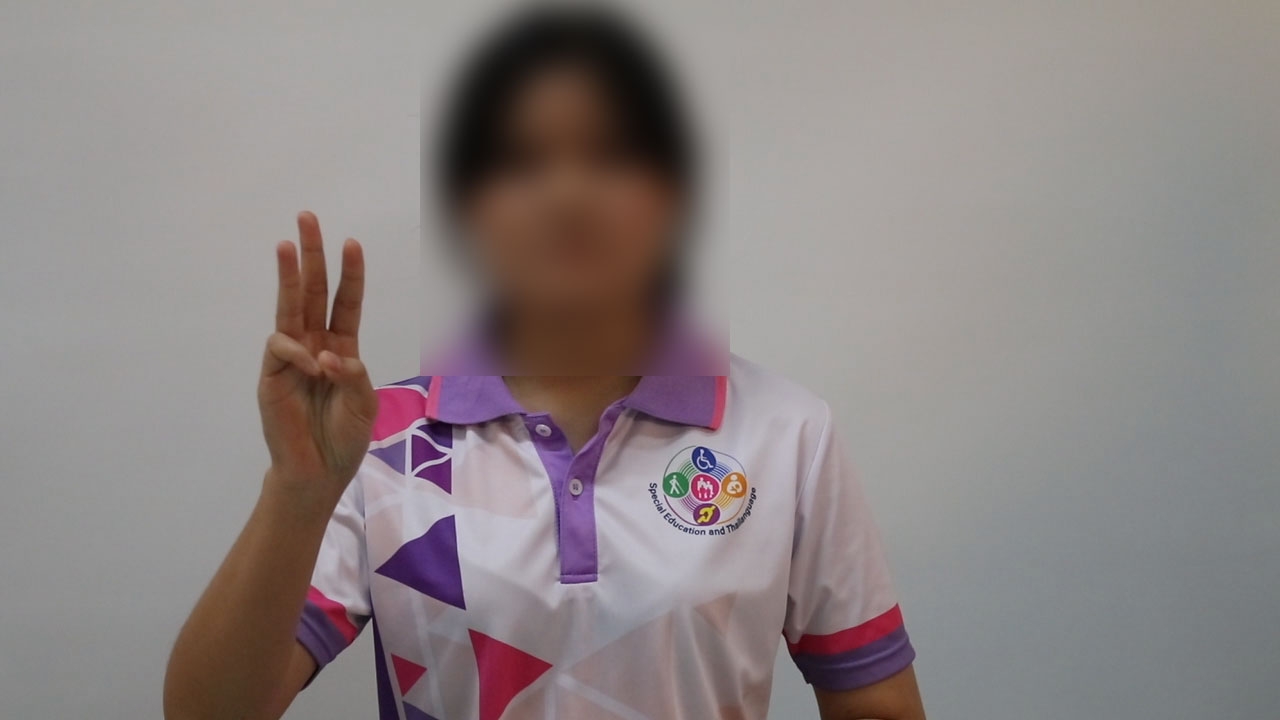wor: (247, 202, 385, 506)
